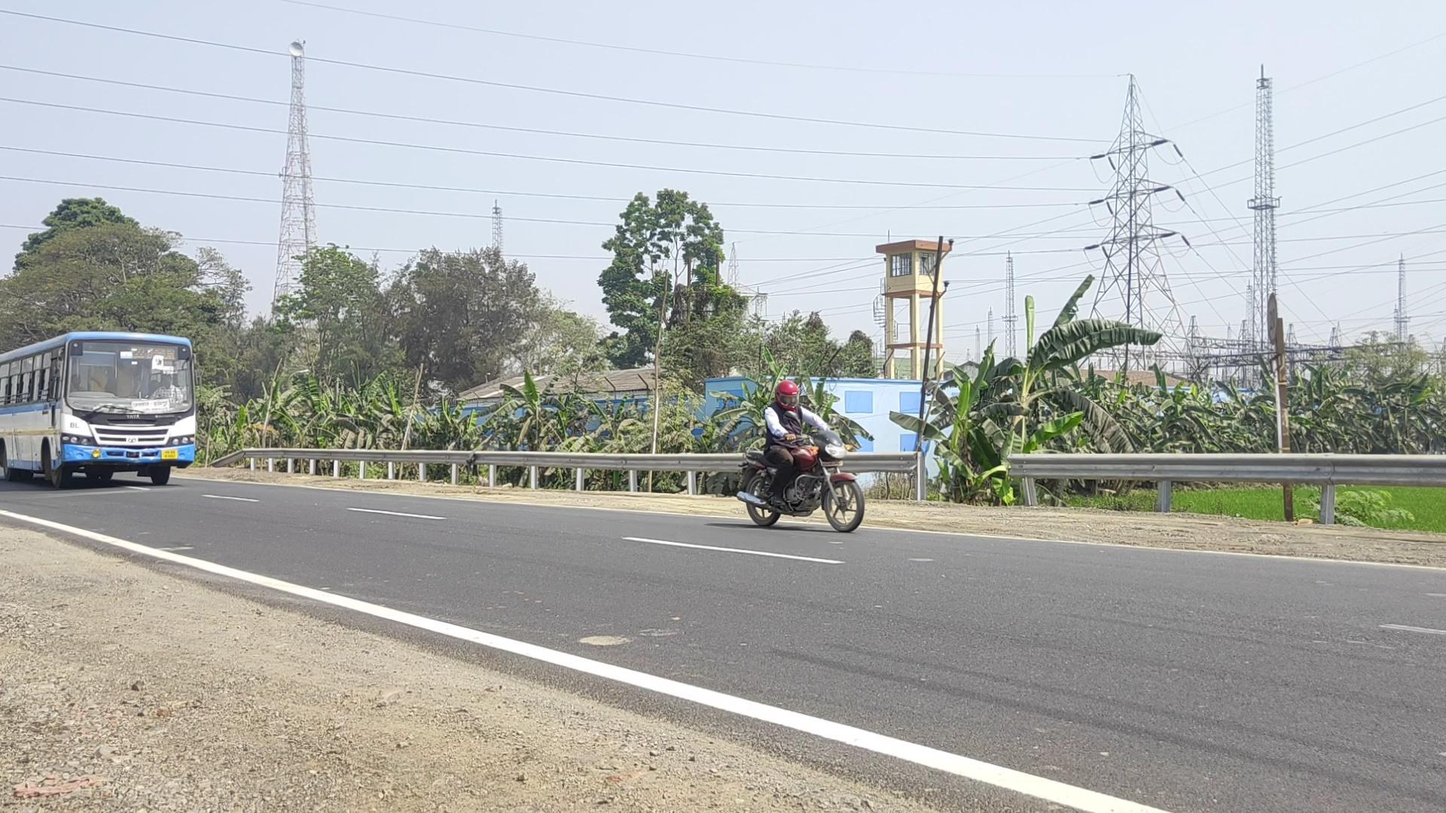Bus: (1, 331, 196, 489)
bike: (737, 381, 865, 533)
